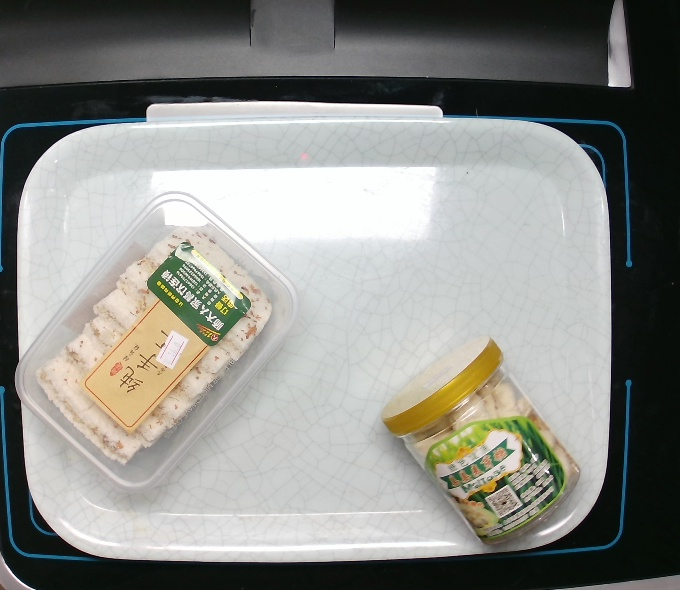wcq-GuiHuaGao: (11, 186, 301, 492)
wcq-MaiYaTang: (375, 333, 586, 549)
